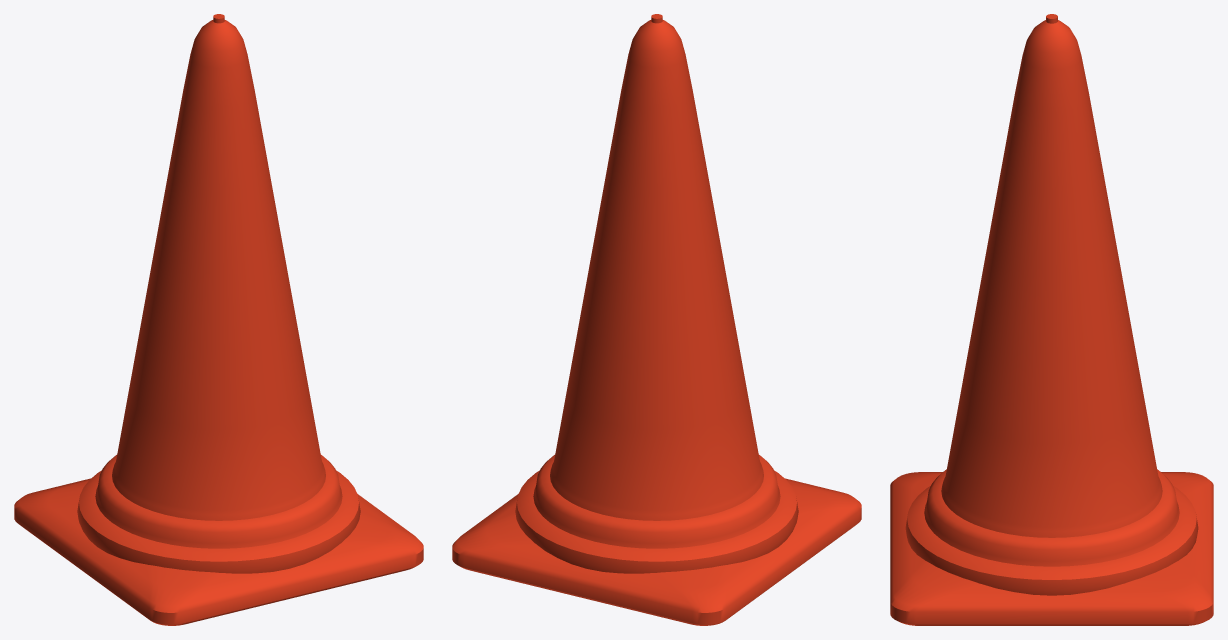
Rendered from Traffic cone.glb.
3 views of the same model, side by side, from view 1: azimuth 30°, elevation 25°; view 2: azimuth 150°, elevation 25°; view 3: azimuth 270°, elevation 25° (orthographic). The views are drawn at different scales.
Visible parts, largest first — view 1: Cone_Body, Cone_Base; view 2: Cone_Body, Cone_Base; view 3: Cone_Body, Cone_Base.
Boxes of the visible parts, x1=… form: Cone_Body: x1=77, y1=14, x2=360, y2=573; Cone_Base: x1=14, y1=478, x2=423, y2=625; Cone_Body: x1=515, y1=14, x2=798, y2=573; Cone_Base: x1=452, y1=478, x2=861, y2=625; Cone_Body: x1=905, y1=14, x2=1198, y2=595; Cone_Base: x1=890, y1=472, x2=1213, y2=625.
Size of the model in its own units: 0.38 by 0.703 by 0.38.
